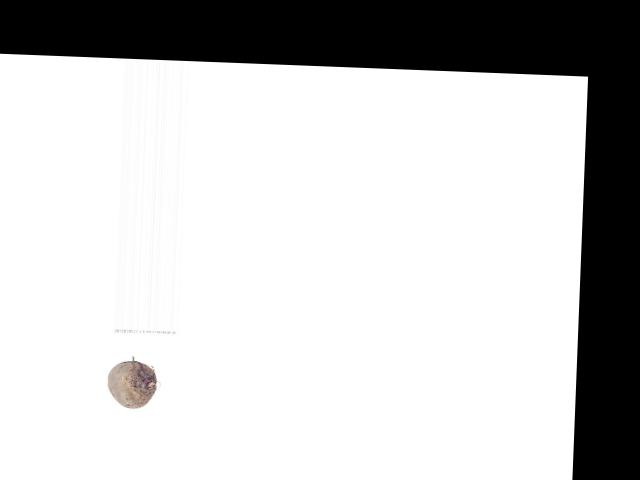beet: (105, 360, 156, 408)
